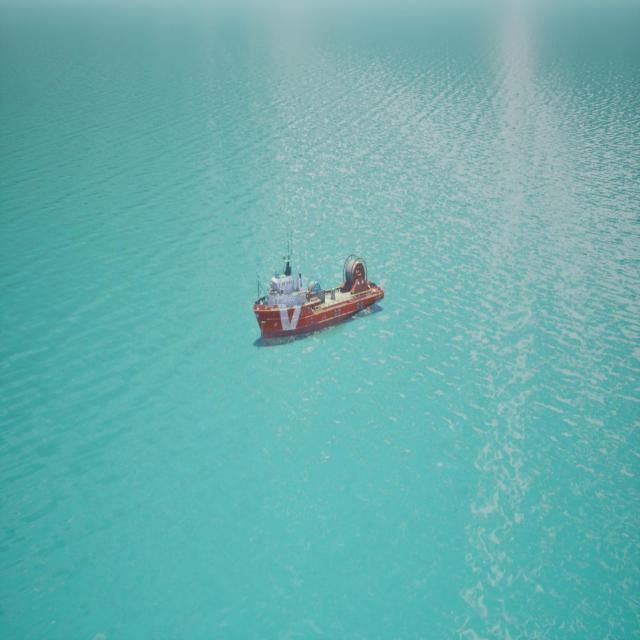tug boat: (254, 259, 385, 346)
